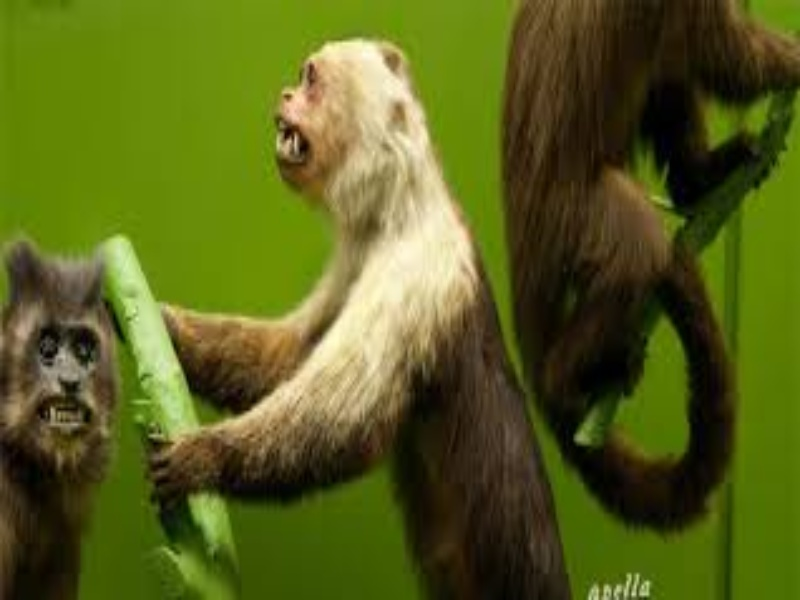monkey: (2, 47, 576, 593)
